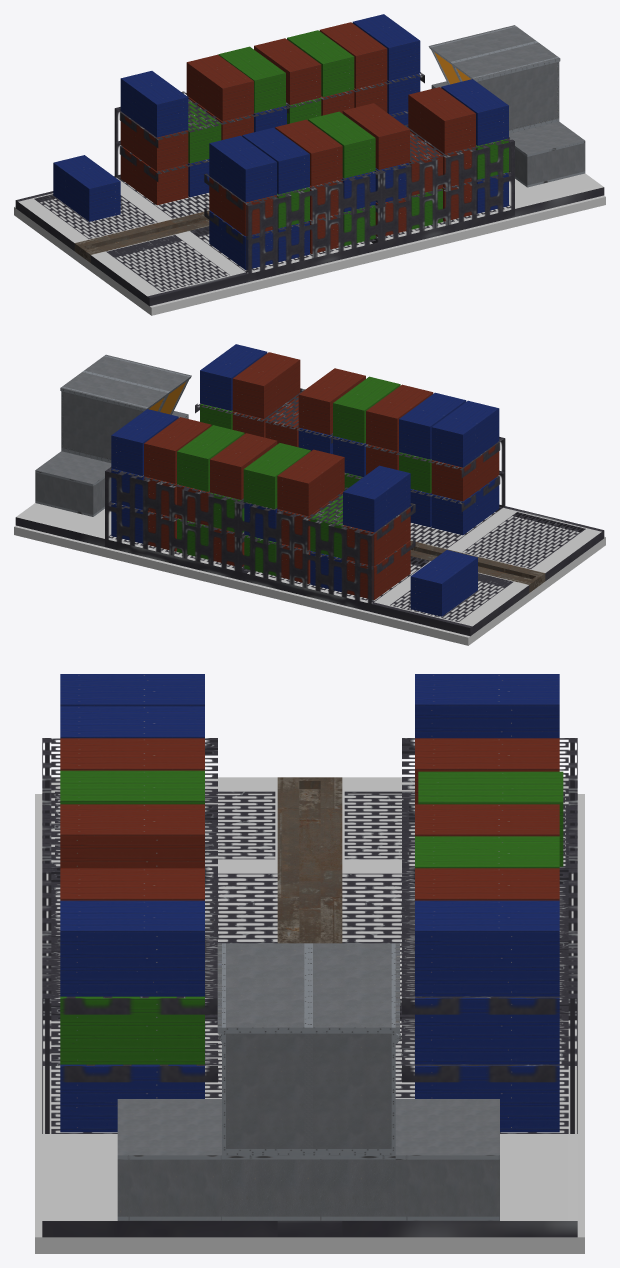
The model's file is Main_Storage.gltf.
3 renders of one model, top to bottom at view 1: azimuth 30°, elevation 25°; view 2: azimuth 150°, elevation 25°; view 3: azimuth 270°, elevation 25°, orthographic. The views are drawn at different scales.
Visible parts, largest first — view 1: Storage_Main; view 2: Storage_Main; view 3: Storage_Main.
Boxes of the visible parts, x1,y1,x2,y2 form: Storage_Main: (14, 14, 605, 315); Storage_Main: (14, 344, 605, 645); Storage_Main: (35, 674, 584, 1253).
Bounding box in the file's own units: 29.01 × 10.25 × 15.2.
